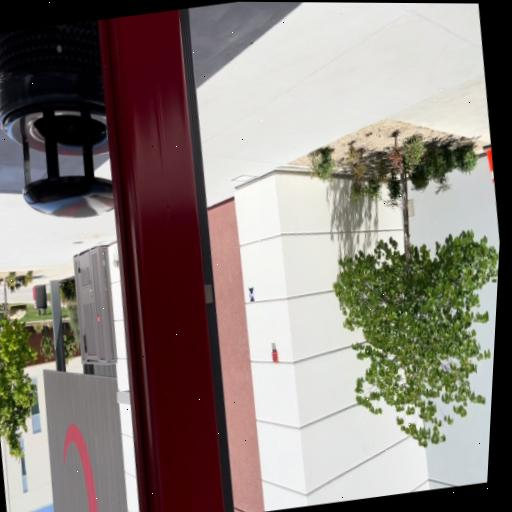target9: (248, 288, 256, 302)
